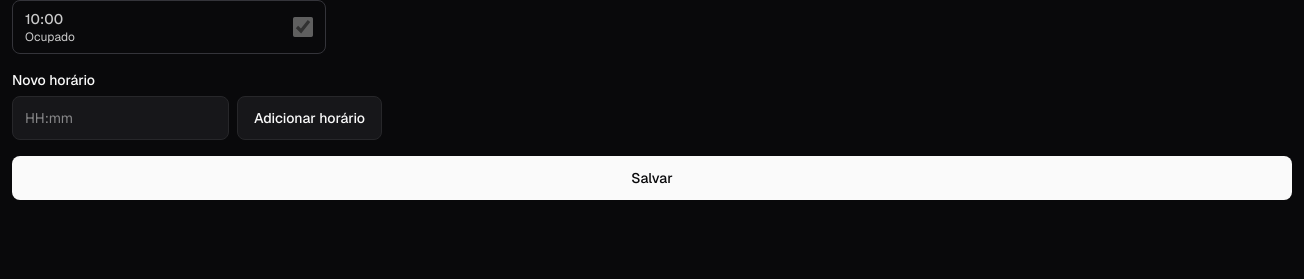
Test: ScheduleSlotGrid › -> (negative companion) exibe a mensagem de erro específica quando o salvamento falha
Click the button "Salvar" at [652, 178], box [12,156,1292,200]
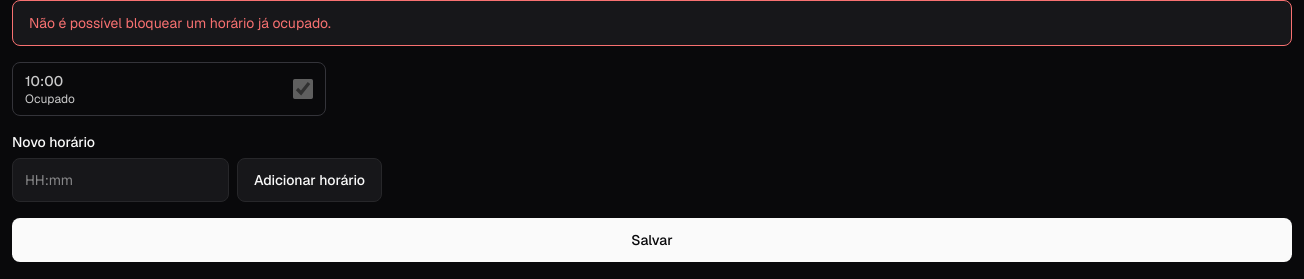
Now the message reads "Não é possível bloquear um horário já ocupado.", box [29,14,331,32]
